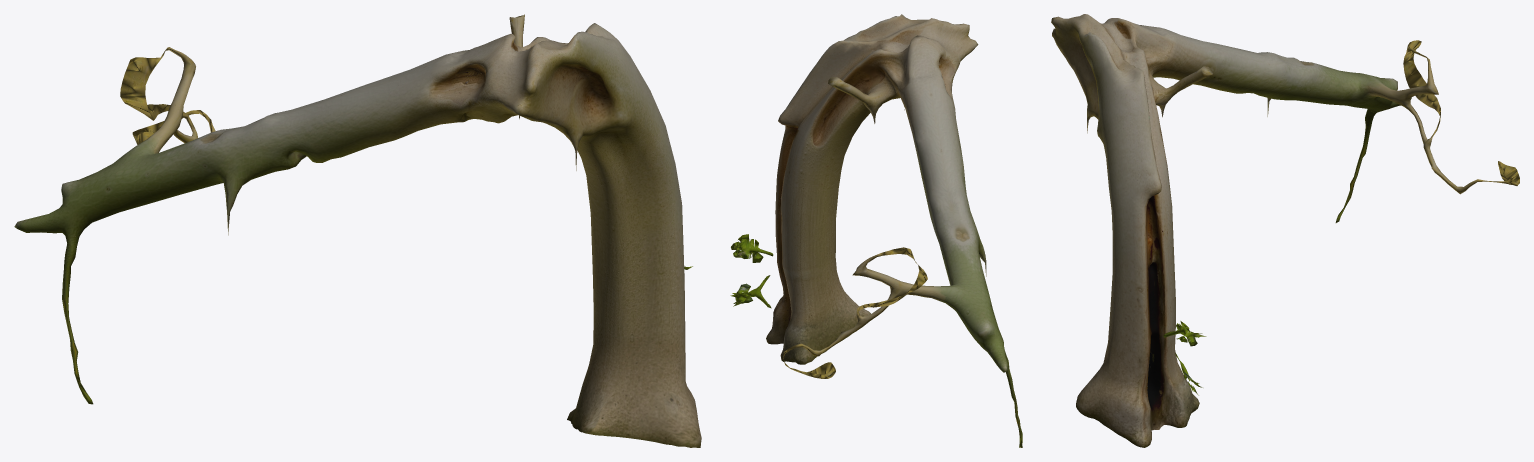
File: fallen tree 3d model.glb
3 renders of one model, left to right at view 1: azimuth 30°, elevation 25°; view 2: azimuth 150°, elevation 25°; view 3: azimuth 270°, elevation 25°, orthographic. The views are drawn at different scales.
Visible parts, largest first — view 1: tripo_node_e995e89d-8db8-4f29-a9ee-c96e5a7c4b6d; view 2: tripo_node_e995e89d-8db8-4f29-a9ee-c96e5a7c4b6d; view 3: tripo_node_e995e89d-8db8-4f29-a9ee-c96e5a7c4b6d.
Part boxes in pixels (box(x1,y1,x2,y2)): tripo_node_e995e89d-8db8-4f29-a9ee-c96e5a7c4b6d: box(14, 14, 701, 447); tripo_node_e995e89d-8db8-4f29-a9ee-c96e5a7c4b6d: box(730, 14, 1022, 447); tripo_node_e995e89d-8db8-4f29-a9ee-c96e5a7c4b6d: box(1051, 14, 1519, 447).
Size of the model in its own units: 0.998 by 0.8496 by 0.998.
Materials: 1 (1 with a texture image).
